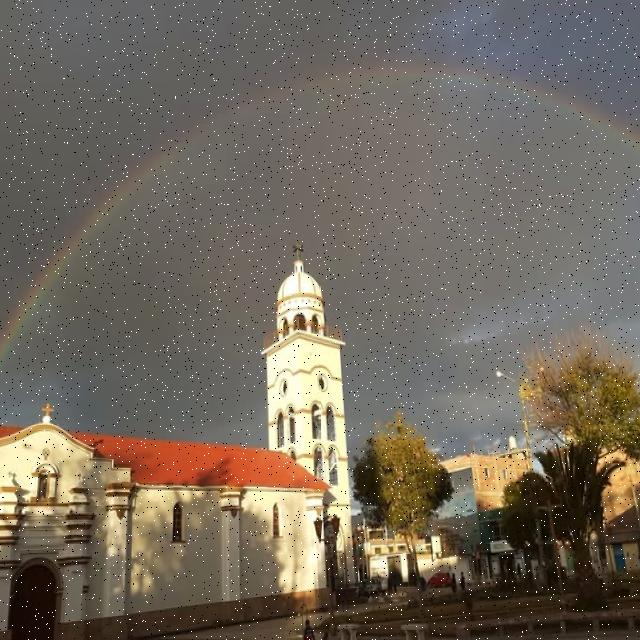CAMPANARIO: (247, 344, 359, 492)
CUPULA: (272, 250, 340, 342)
PORTADA CENTRAL: (0, 559, 71, 640)
TORRES: (258, 244, 367, 608)
colonial-architecture-: (0, 214, 382, 640)
